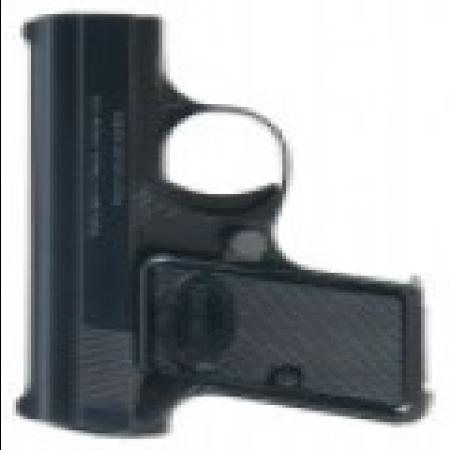Pistol: (8, 8, 420, 430)
